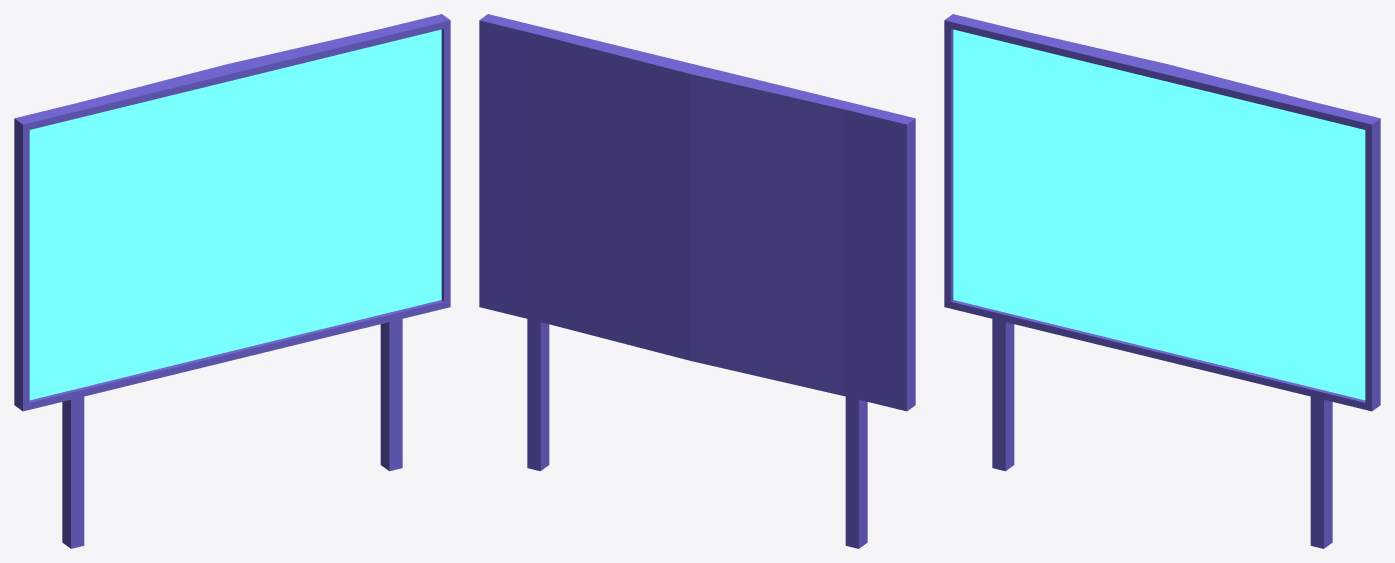
The model's file is Billboard.fbx.
3 views of the same model, side by side, from view 1: azimuth 30°, elevation 25°; view 2: azimuth 150°, elevation 25°; view 3: azimuth 330°, elevation 25° (orthographic).
Parts seen in each view (by area): view 1: Billboard; view 2: Billboard; view 3: Billboard.
Part boxes in pixels (x1,y1,x2,y2): Billboard: (14,14,450,548); Billboard: (479,14,915,548); Billboard: (944,14,1380,548).
Size of the model in its own units: 820 by 799 by 36.22.
